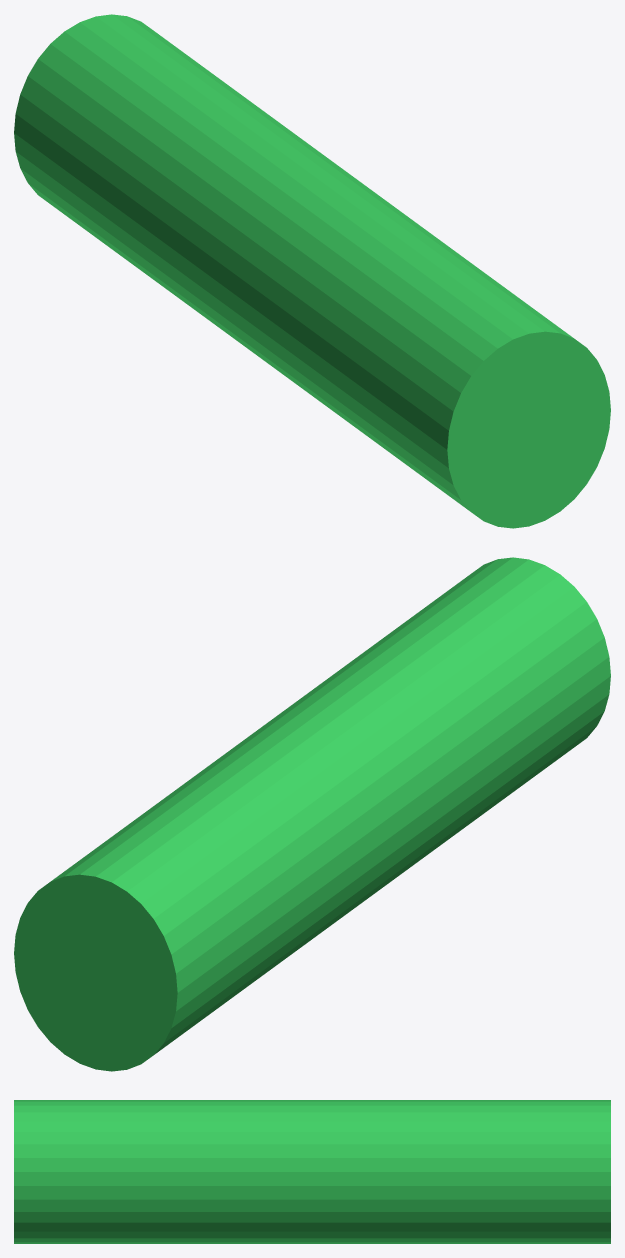
File: Bullet.obj
3 renders of one model, top to bottom at view 1: azimuth 30°, elevation 25°; view 2: azimuth 150°, elevation 25°; view 3: azimuth 270°, elevation 25°, orthographic. The views are drawn at different scales.
Parts seen in each view (by area): view 1: 円柱; view 2: 円柱; view 3: 円柱.
Part boxes in pixels (<box>): 円柱: <box>14,14,610,528</box>; 円柱: <box>14,557,610,1071</box>; 円柱: <box>14,1100,610,1243</box>.
Size of the model in its own units: 0.1665 by 0.1874 by 0.7636.
